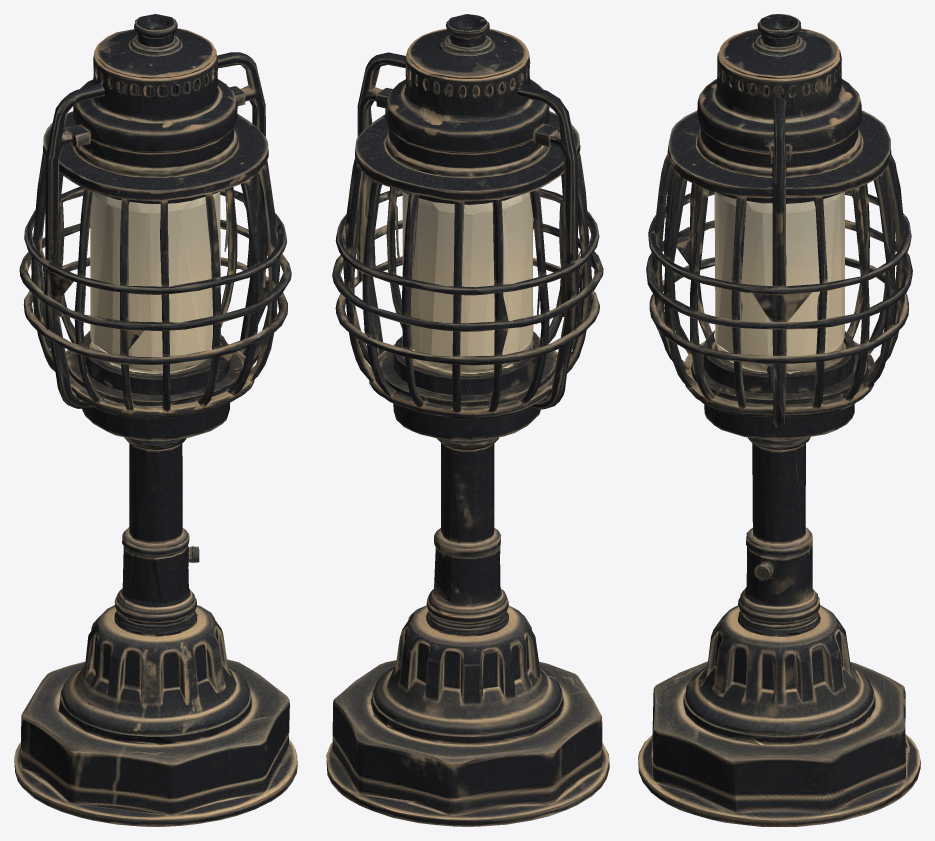
File: web.glb
3 views of the same model, side by side, from view 1: azimuth 30°, elevation 25°; view 2: azimuth 150°, elevation 25°; view 3: azimuth 270°, elevation 25° (orthographic).
Visible parts, largest first — view 1: output_unwrapped; view 2: output_unwrapped; view 3: output_unwrapped.
Boxes of the visible parts, left/top/right/bottom form: output_unwrapped: left=14, top=14, right=297, bottom=826; output_unwrapped: left=326, top=14, right=609, bottom=826; output_unwrapped: left=638, top=14, right=920, bottom=826.
Bounding box in the file's own units: 0.6593 × 1.9 × 0.6533.
1 material, 1 textured.
